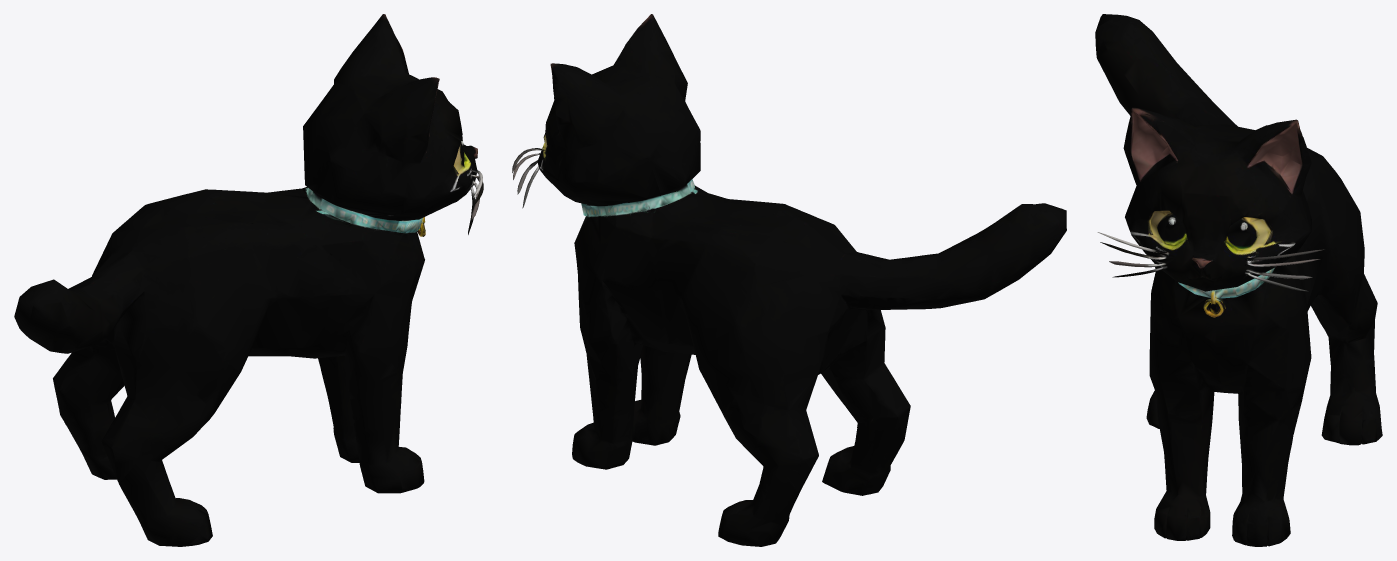
Rendered from PEPPERCAT.glb.
3 views of the same model, side by side, from view 1: azimuth 30°, elevation 25°; view 2: azimuth 150°, elevation 25°; view 3: azimuth 270°, elevation 25° (orthographic). The views are drawn at different scales.
Visible parts, largest first — view 1: material; view 2: material; view 3: material.
Part boxes in pixels (box(x1,y1,x2,y2)): material: box(14, 14, 483, 546); material: box(512, 14, 1066, 546); material: box(1095, 14, 1382, 546).
Size of the model in its own units: 1.25 by 0.9993 by 0.6037.
1 material, 1 textured.
